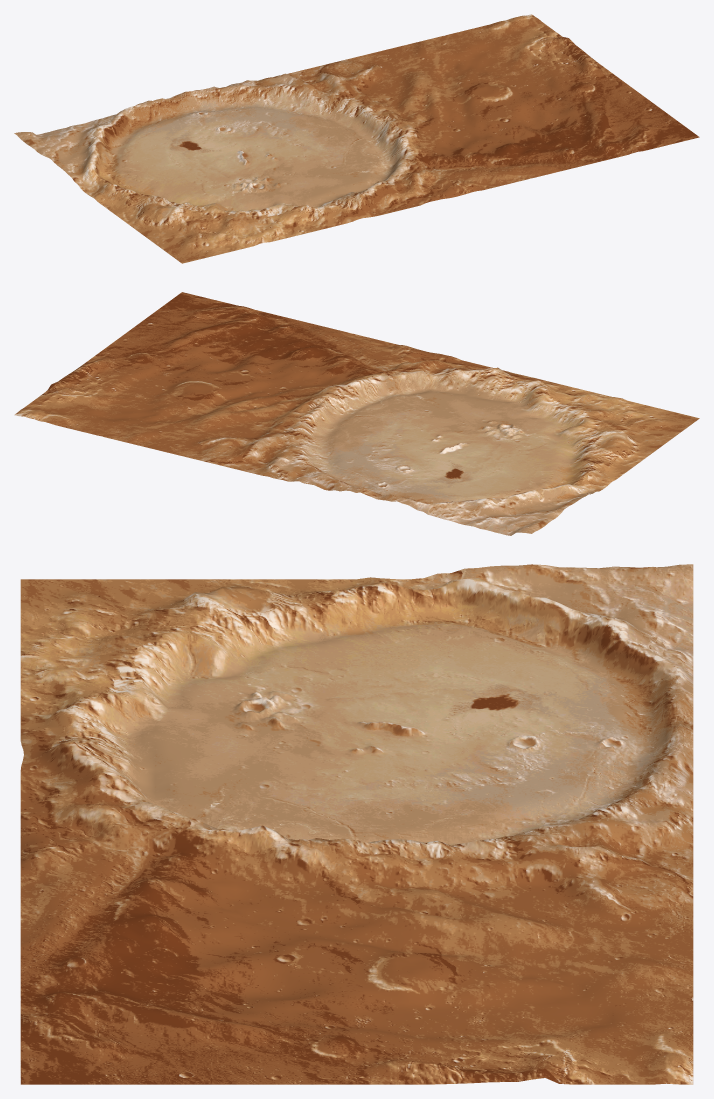
File: mars_terrain.DAE
3 views of the same model, one above another, from view 1: azimuth 30°, elevation 25°; view 2: azimuth 150°, elevation 25°; view 3: azimuth 270°, elevation 25° (orthographic). The views are drawn at different scales.
Visible parts, largest first — view 1: Plane001; view 2: Plane001; view 3: Plane001.
Boxes of the visible parts, <box> form: Plane001: <box>14,14,699,263</box>; Plane001: <box>14,292,699,535</box>; Plane001: <box>20,564,693,1084</box>.
Bounding box in the file's own units: 192000 × 108000 × 7098.
Materials: 1 (1 with a texture image).
